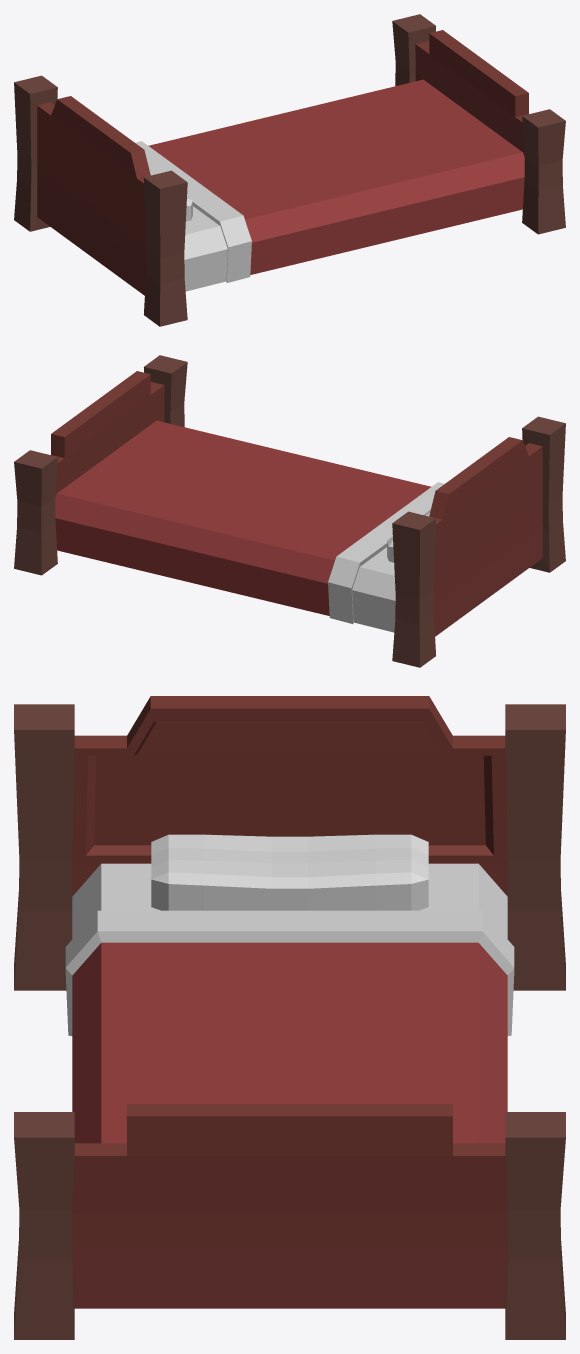
Rendered from quaternius-furniture-bed.glb.
3 views of the same model, one above another, from view 1: azimuth 30°, elevation 25°; view 2: azimuth 150°, elevation 25°; view 3: azimuth 270°, elevation 25° (orthographic). The views are drawn at different scales.
Visible parts, largest first — view 1: Bed; view 2: Bed; view 3: Bed.
Boxes of the visible parts, x1=… form: Bed: x1=14, y1=14, x2=565, y2=326; Bed: x1=14, y1=355, x2=565, y2=667; Bed: x1=14, y1=696, x2=565, y2=1339.
Bounding box in the file's own units: 1.43 × 0.4898 × 0.8898.
